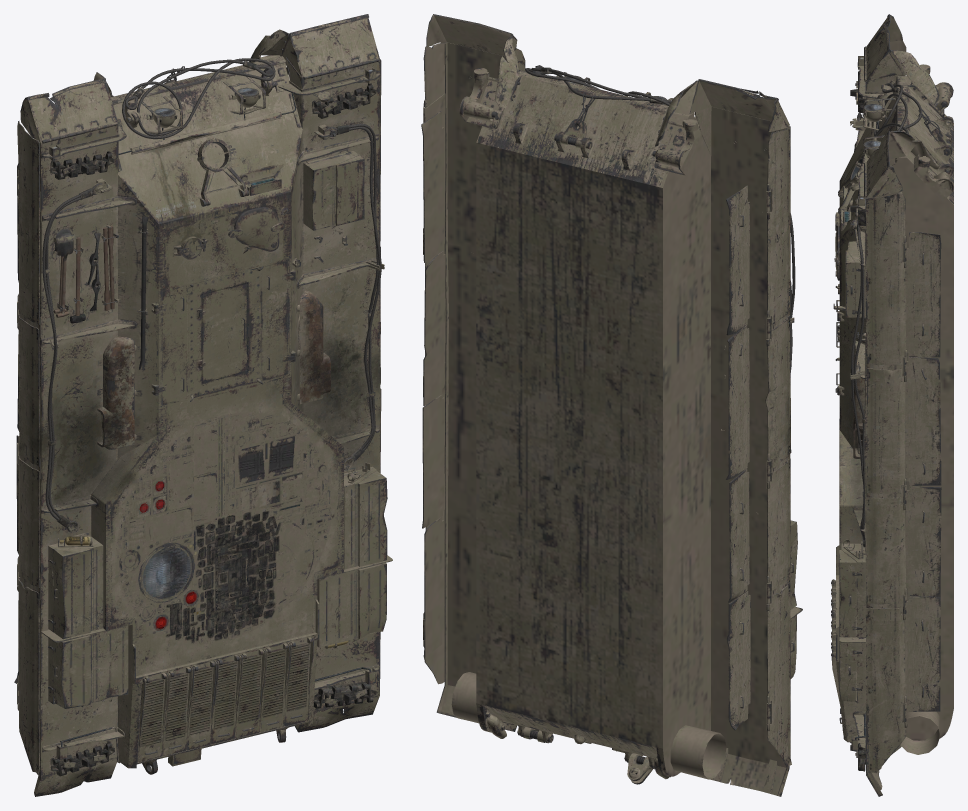
The model's file is Hull.glb.
The picture shows the model from 3 angles, left to right: view 1: azimuth 30°, elevation 25°; view 2: azimuth 150°, elevation 25°; view 3: azimuth 270°, elevation 25°; orthographic projection. The views are drawn at different scales.
Parts seen in each view (by area): view 1: set_0_group_0; view 2: set_0_group_0; view 3: set_0_group_0.
Boxes of the visible parts, <box> form: set_0_group_0: <box>14,14,392,796</box>; set_0_group_0: <box>421,14,802,796</box>; set_0_group_0: <box>831,14,953,796</box>.
Bounding box in the file's own units: 4.04 × 7.74 × 1.36.
1 material, 1 textured.
